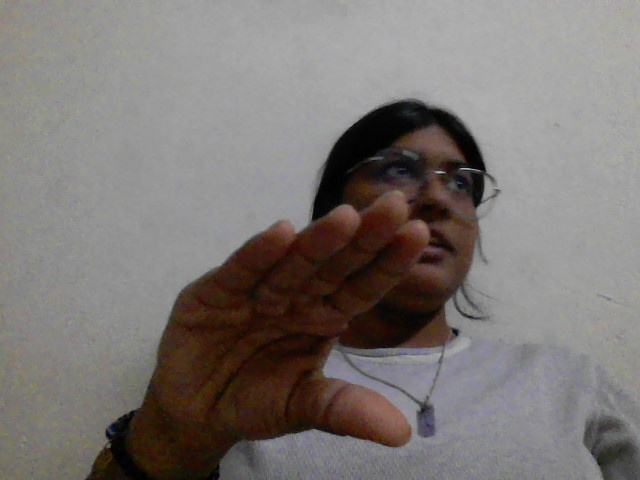no: (127, 183, 437, 459)
